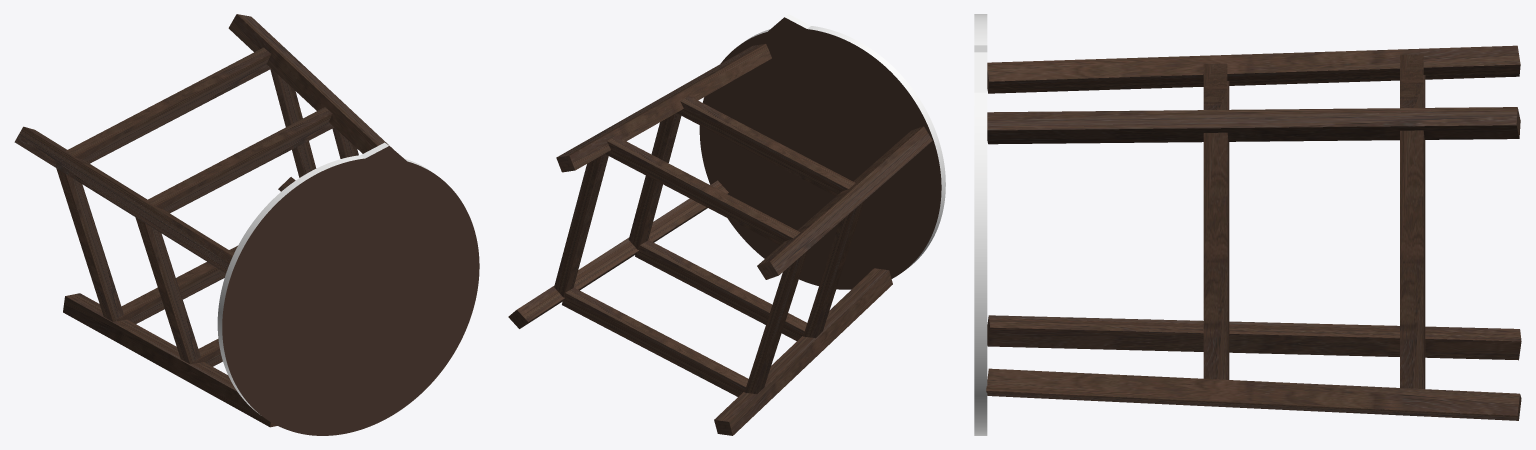
File: Stool5.glb
The picture shows the model from 3 angles, left to right: view 1: azimuth 30°, elevation 25°; view 2: azimuth 150°, elevation 25°; view 3: azimuth 270°, elevation 25°; orthographic projection. The views are drawn at different scales.
Visible parts, largest first — view 1: Circle.010; view 2: Circle.010; view 3: Circle.010.
Boxes of the visible parts, <box> form: Circle.010: <box>14,14,479,435</box>; Circle.010: <box>508,14,945,435</box>; Circle.010: <box>974,14,1521,435</box>.
Bounding box in the file's own units: 27.85 × 25.64 × 32.57.
2 materials, 1 textured.
